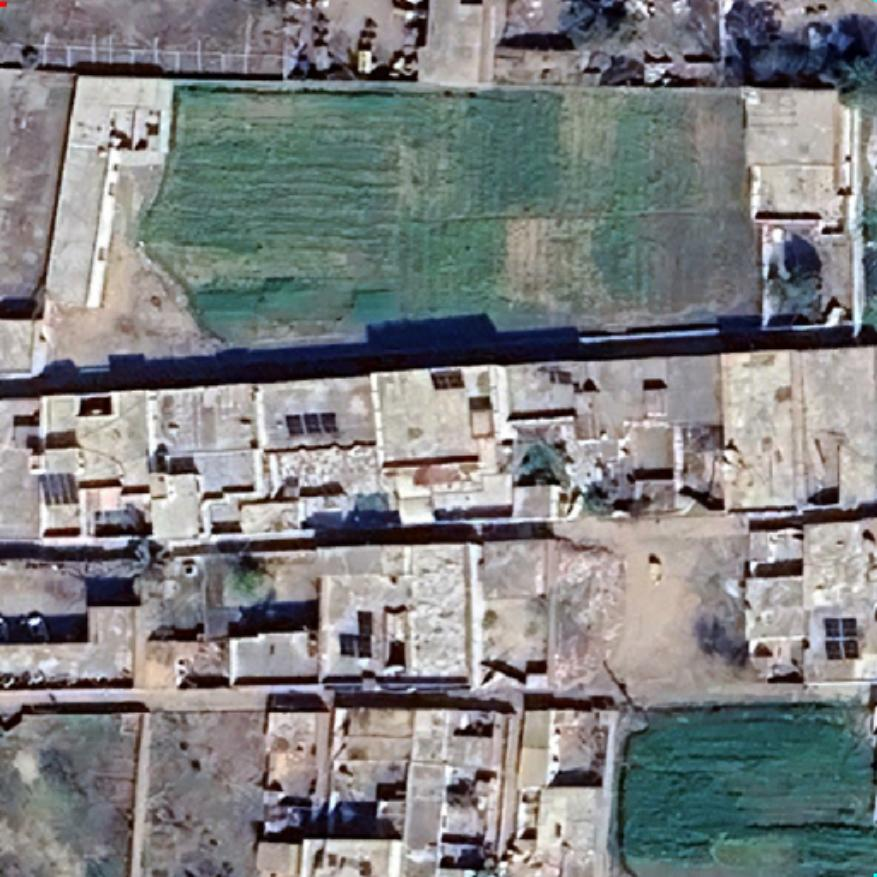Solarpanel: (335, 604, 379, 664), (818, 610, 864, 664), (280, 406, 344, 442), (35, 466, 84, 510), (424, 366, 469, 394)
